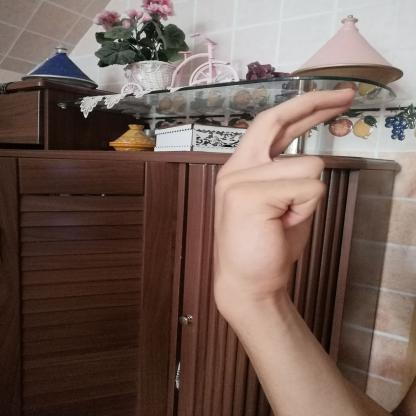ZAY: (192, 75, 372, 316)
